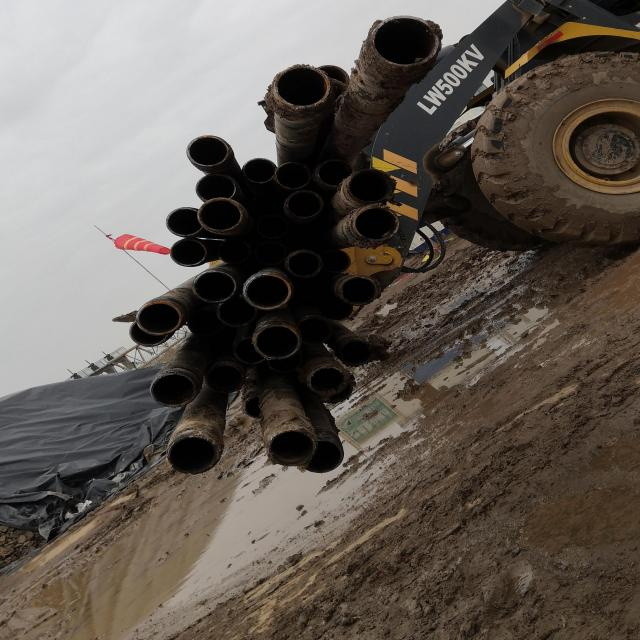pipe: (372, 15, 438, 66), (270, 61, 329, 106), (165, 437, 220, 473), (251, 324, 301, 360), (346, 168, 397, 203), (245, 274, 291, 310), (151, 372, 197, 408), (268, 431, 314, 466), (353, 208, 400, 241), (185, 133, 230, 166), (199, 200, 245, 232), (134, 302, 180, 332), (339, 276, 379, 308), (163, 206, 205, 236), (306, 439, 344, 472), (194, 271, 234, 302), (194, 173, 237, 201), (282, 191, 325, 219), (285, 249, 324, 279), (213, 298, 254, 326), (127, 320, 171, 346), (205, 362, 245, 390), (230, 335, 267, 365), (169, 238, 207, 267), (309, 366, 346, 395), (317, 63, 352, 93), (240, 156, 277, 184), (275, 162, 312, 190), (316, 159, 352, 187), (215, 238, 252, 264), (298, 316, 332, 343), (252, 240, 286, 266), (187, 311, 222, 336), (320, 296, 354, 321), (255, 214, 289, 238), (322, 248, 352, 273), (340, 339, 371, 363), (241, 394, 269, 420), (266, 355, 303, 372)
